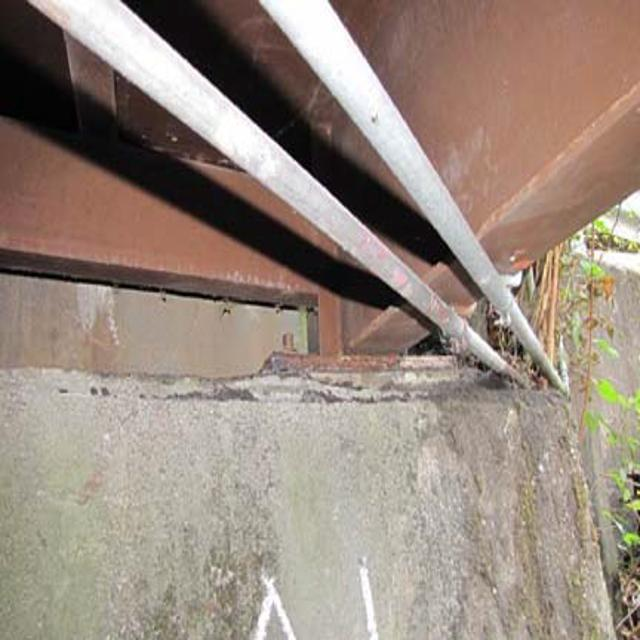corrosion: (254, 267, 413, 386)
